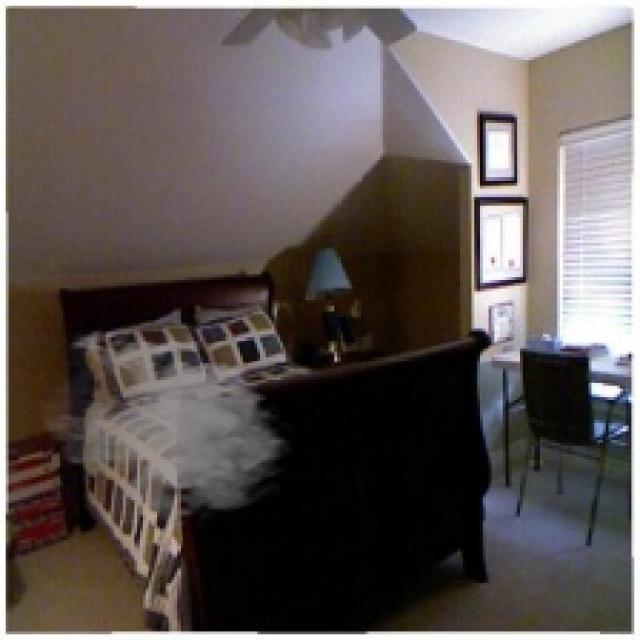Smoke: (34, 326, 294, 532)
